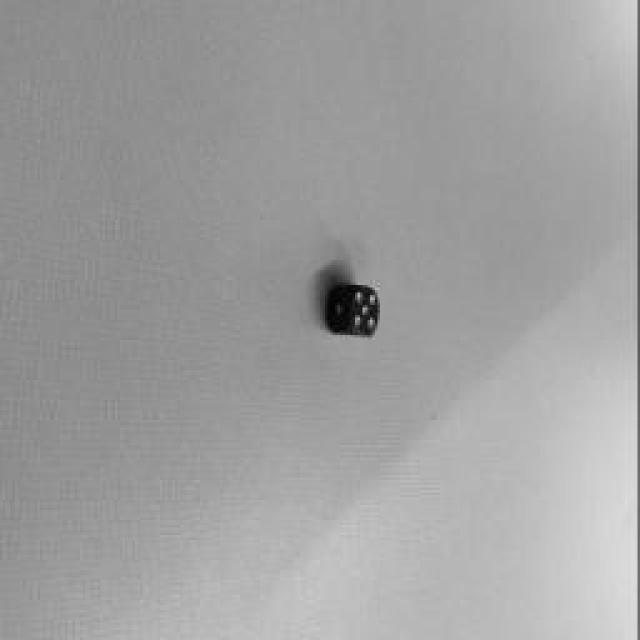dice_5: (351, 286, 381, 339)
